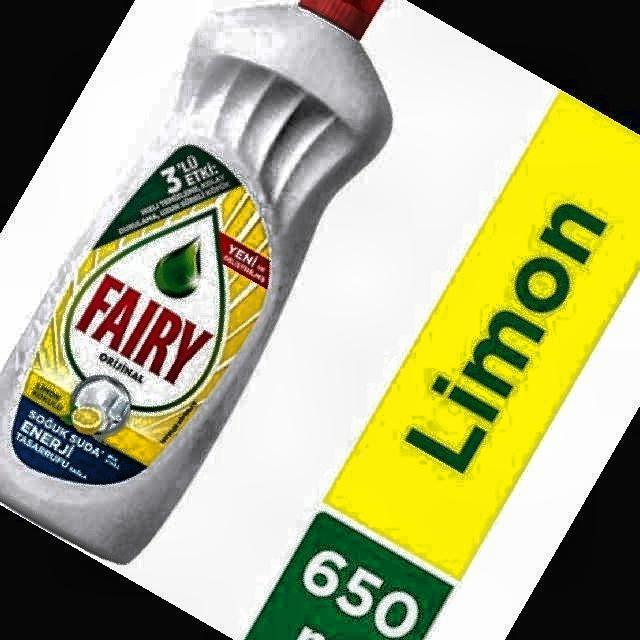plastic: (1, 0, 391, 562)
